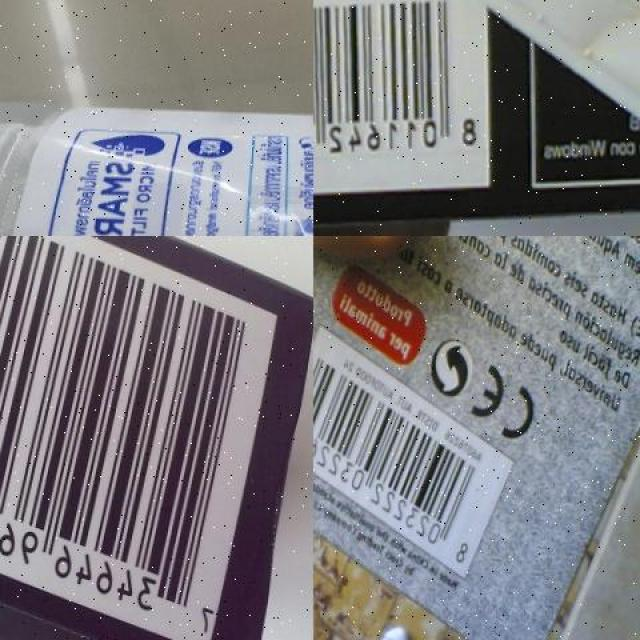Barcode: (0, 236, 284, 640), (313, 316, 516, 579), (314, 0, 494, 207)
